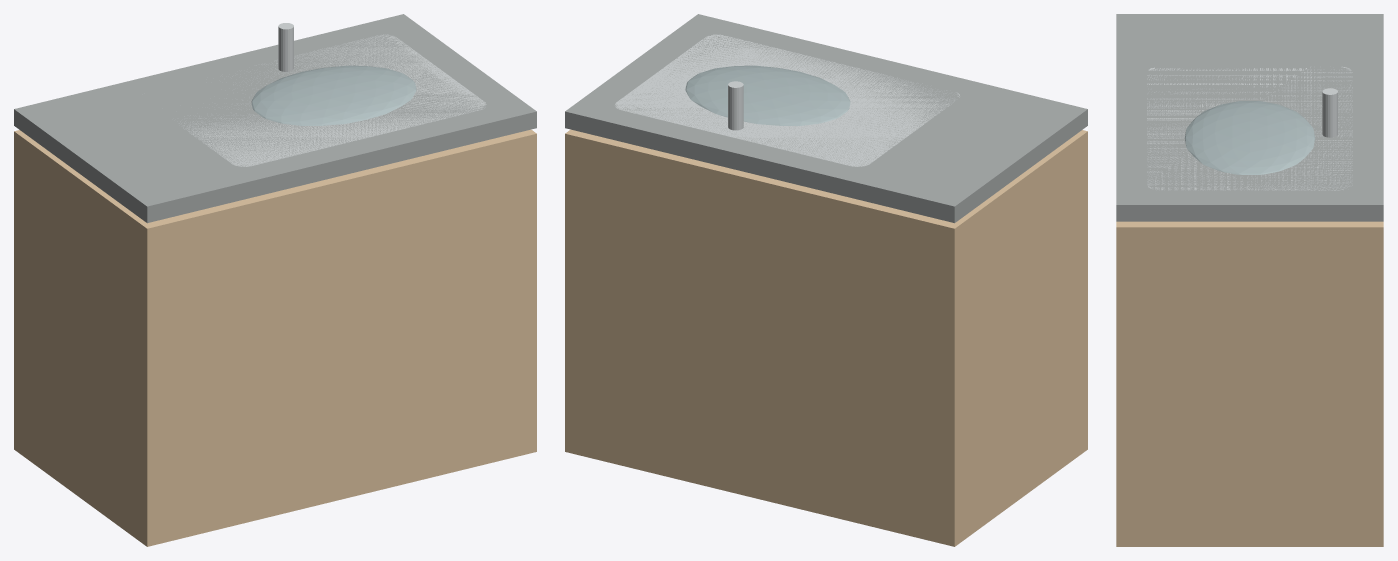
Rendered from f-kitchen-o02-631d6e7889.glb.
3 renders of one model, left to right at view 1: azimuth 30°, elevation 25°; view 2: azimuth 150°, elevation 25°; view 3: azimuth 270°, elevation 25°, orthographic.
Visible parts, largest first — view 1: base-cabinet, worktop, sink-surround, sink-bowl, mixer; view 2: base-cabinet, worktop, sink-surround, sink-bowl, mixer; view 3: base-cabinet, worktop, sink-bowl, sink-surround, mixer.
Boxes of the visible parts, bbox=[...] form: base-cabinet: bbox=[14, 129, 536, 546]; worktop: bbox=[14, 14, 536, 223]; sink-surround: bbox=[179, 34, 486, 166]; sink-bowl: bbox=[251, 65, 416, 126]; mixer: bbox=[278, 23, 293, 71]; base-cabinet: bbox=[565, 129, 1087, 546]; worktop: bbox=[565, 14, 1087, 223]; sink-surround: bbox=[615, 34, 959, 166]; sink-bowl: bbox=[685, 65, 850, 126]; mixer: bbox=[728, 81, 743, 130]; base-cabinet: bbox=[1116, 221, 1383, 546]; worktop: bbox=[1116, 14, 1383, 221]; sink-bowl: bbox=[1184, 101, 1315, 174]; sink-surround: bbox=[1147, 66, 1352, 190]; mixer: bbox=[1322, 88, 1337, 137].
Size of the model in its own units: 0.98 by 0.92 by 0.58.
